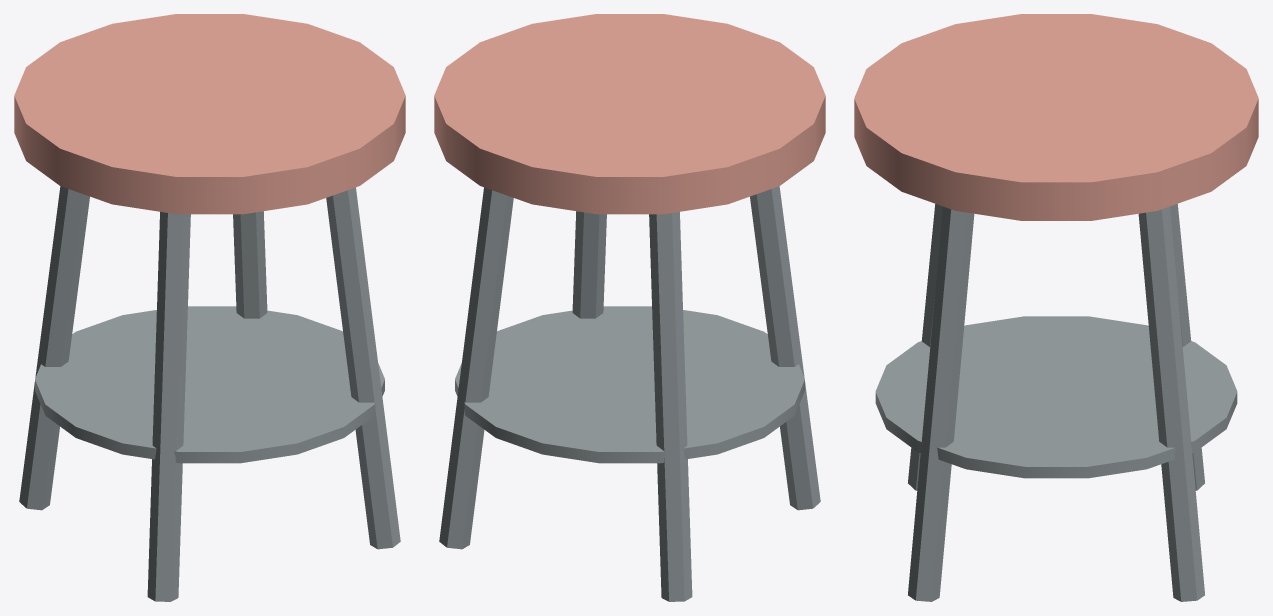
File: stool.glb
3 renders of one model, left to right at view 1: azimuth 30°, elevation 25°; view 2: azimuth 150°, elevation 25°; view 3: azimuth 270°, elevation 25°, orthographic. The views are drawn at different scales.
Visible parts, largest first — view 1: stool.001; view 2: stool.001; view 3: stool.001.
Part boxes in pixels (bbox=[...]): stool.001: bbox=[14, 14, 405, 601]; stool.001: bbox=[434, 14, 825, 601]; stool.001: bbox=[854, 14, 1258, 601].
Bounding box in the file's own units: 0.3742 × 0.4602 × 0.38.
